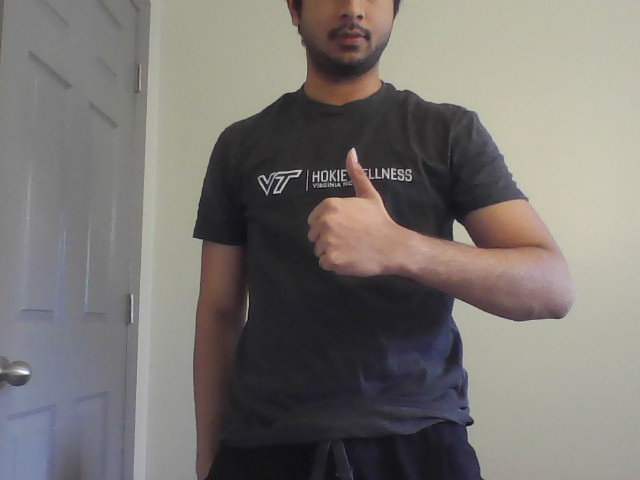confirm: (302, 143, 408, 281)
